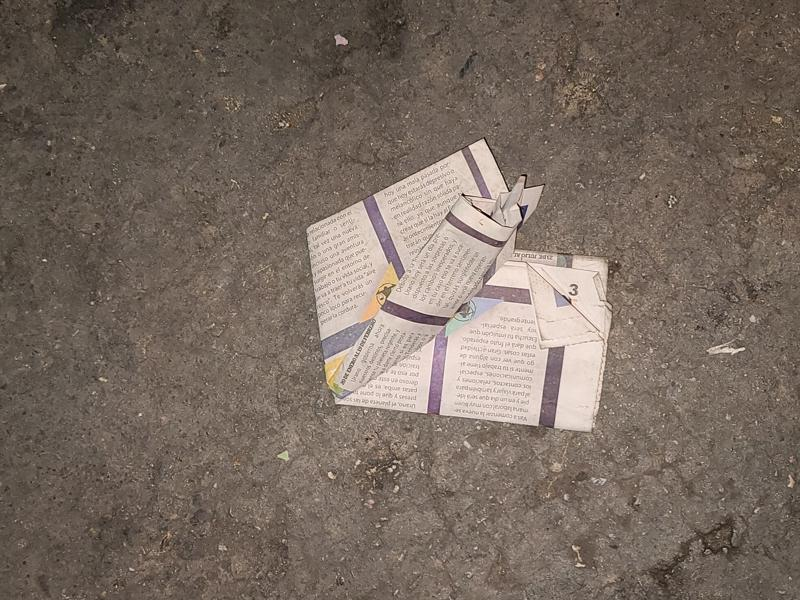papel: (306, 139, 612, 434)
